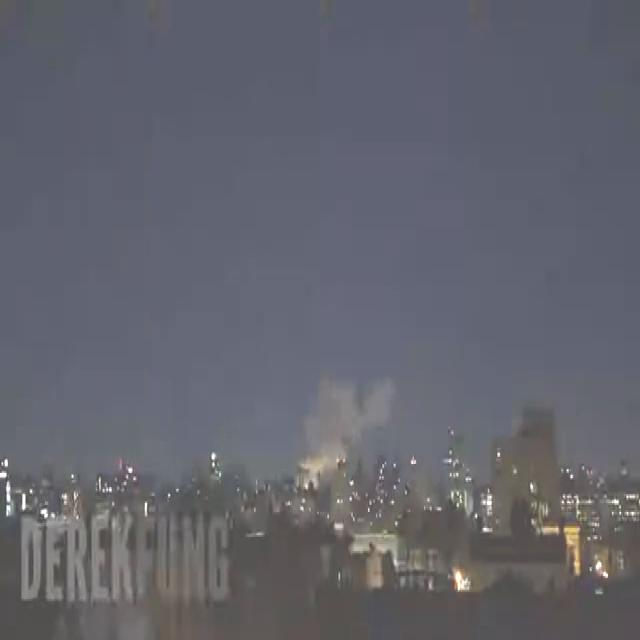smoke: (298, 379, 394, 487)
